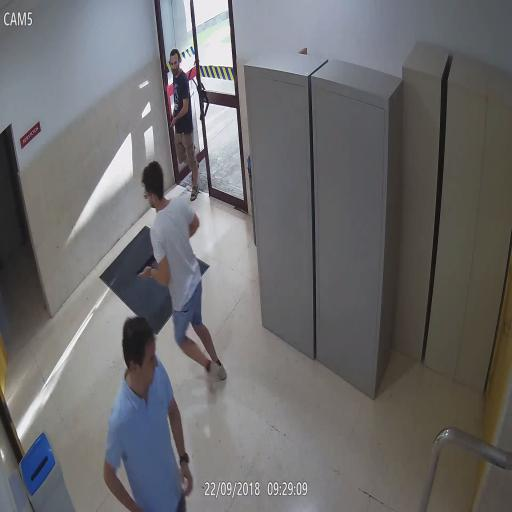Handgun: (168, 114, 177, 133)
